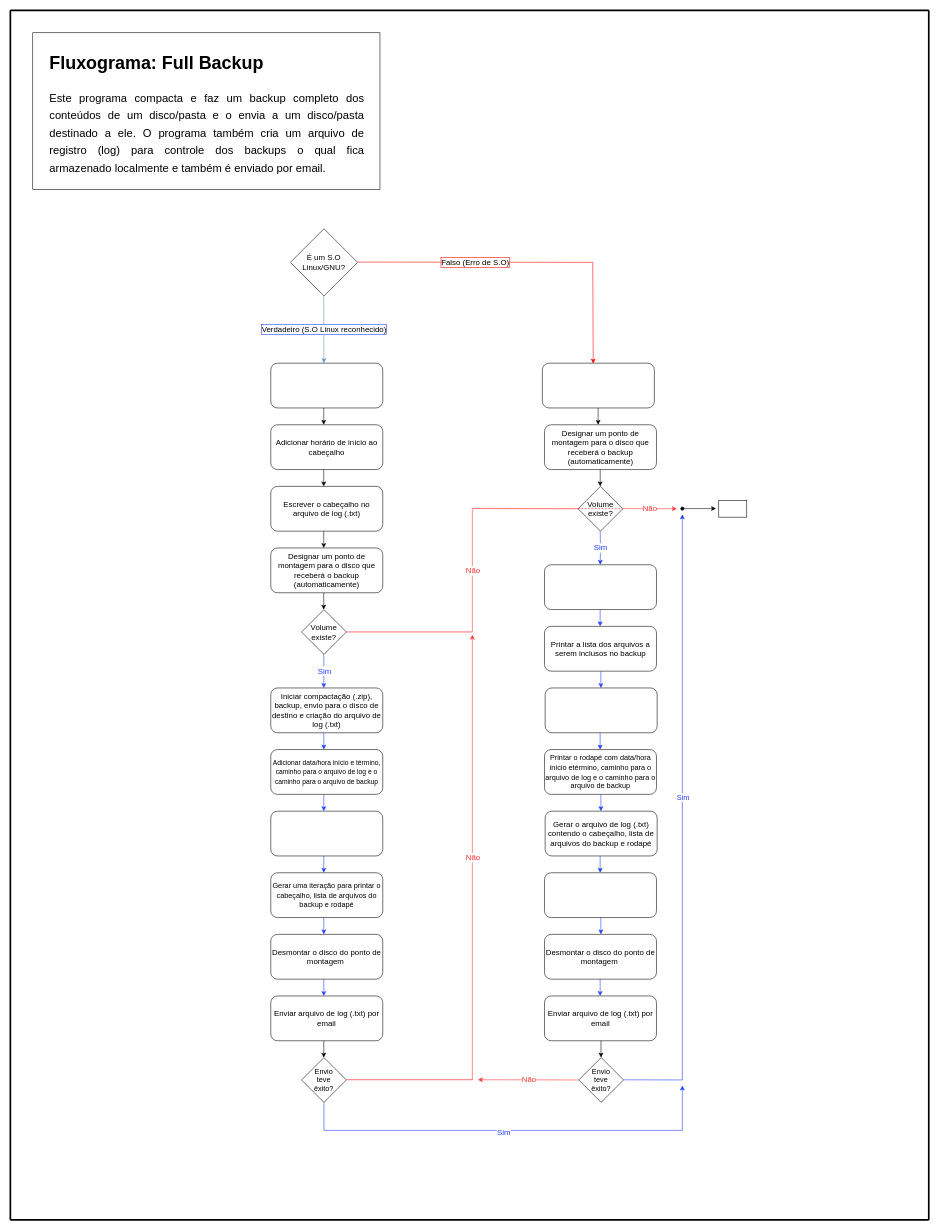
Some shapes in this 940 by 1231 pixel diagram are drawn without their labels. Here are the shapes that lost their labels. From the top down, the centre of each, then its label:
the point at 326,385: Iniciar Full Backup para Linux (a máquina tem S.O Linux)
the point at 598,385: Iniciar Full Backup para Windows (a máquina tem S.O windows)
the point at 732,508: Fim
the point at 600,587: Printar cabeçalho (Mostra horário de início do backup)
the point at 601,710: Iniciar compactação (.zip) e backup e envio para o disco de destino
the point at 326,833: Fazer um append adicionando a lista de arquivos contidos no backup
the point at 600,895: Enviar arquivo de log (.txt) para a pasta de destino
